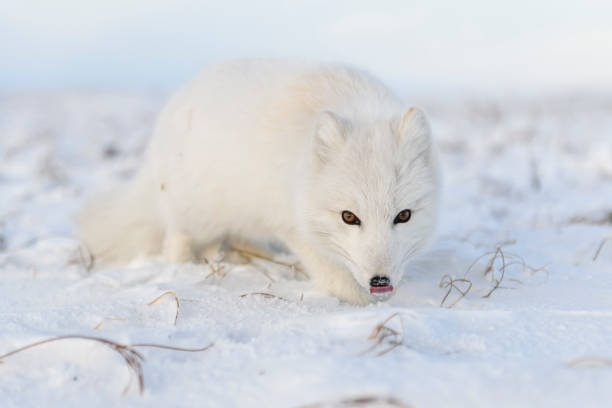arcticfox: (318, 154, 423, 290)
